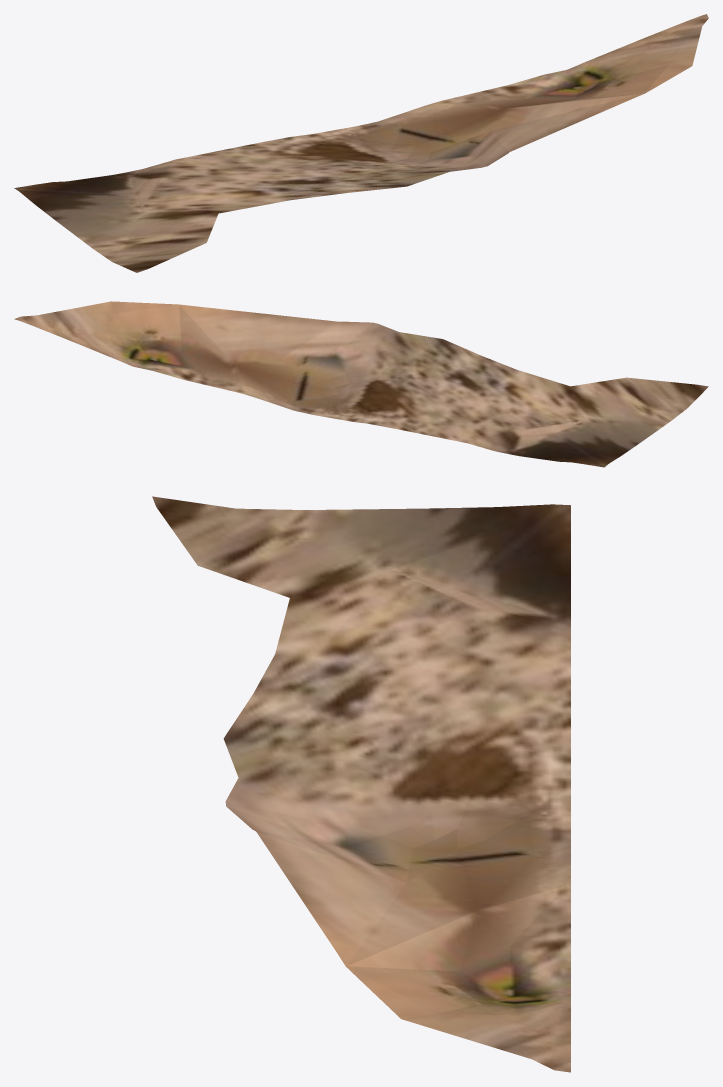
3 renders of one model, top to bottom at view 1: azimuth 30°, elevation 25°; view 2: azimuth 150°, elevation 25°; view 3: azimuth 270°, elevation 25°, orthographic. The views are drawn at different scales.
Size of the model in its own units: 2.25 by 0.0892 by 0.6904.
1 material, 1 textured.
